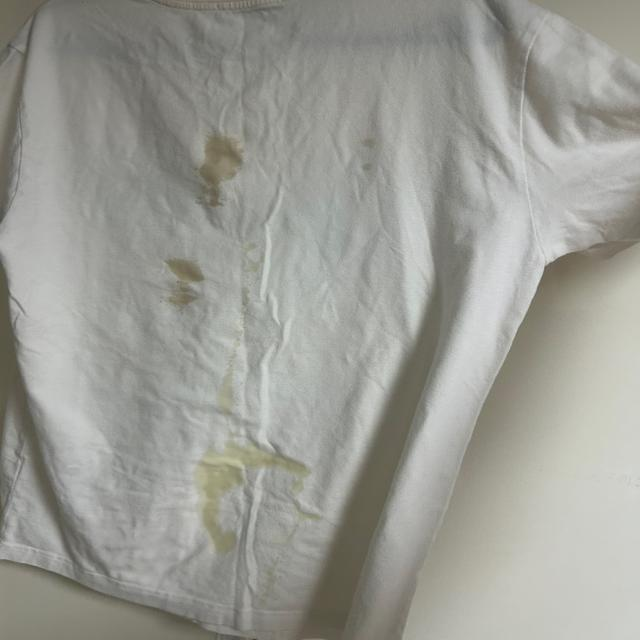stain: (208, 434, 309, 481), (180, 126, 248, 192), (152, 245, 209, 314), (195, 509, 258, 563), (183, 462, 239, 516), (277, 489, 333, 531), (357, 137, 402, 182), (239, 243, 269, 280), (197, 190, 236, 218), (218, 357, 241, 402)
